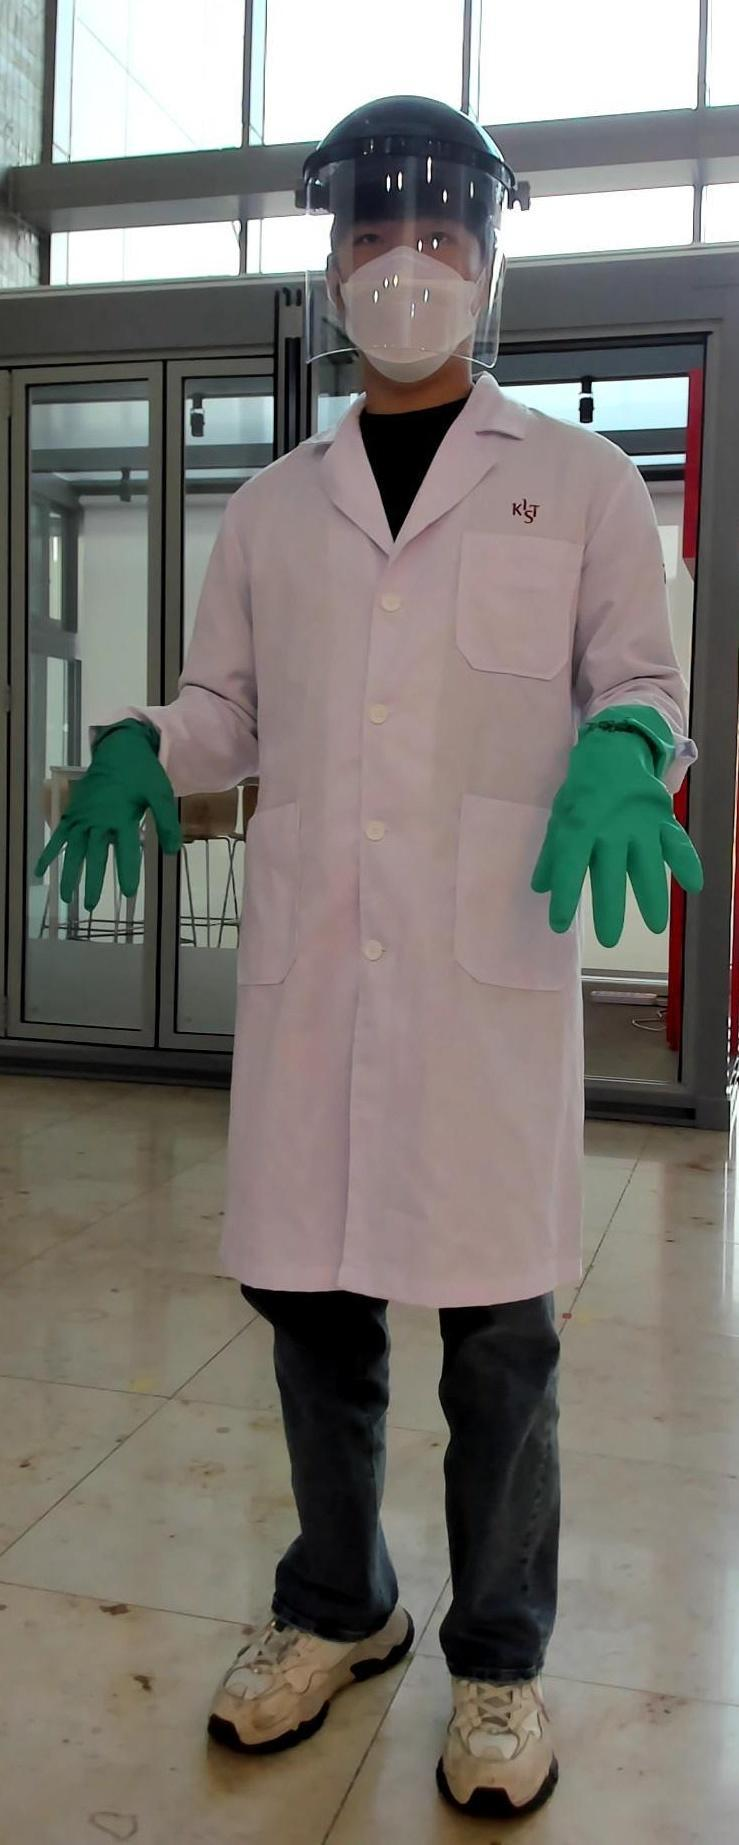lab_coat: (217, 461, 557, 1284)
